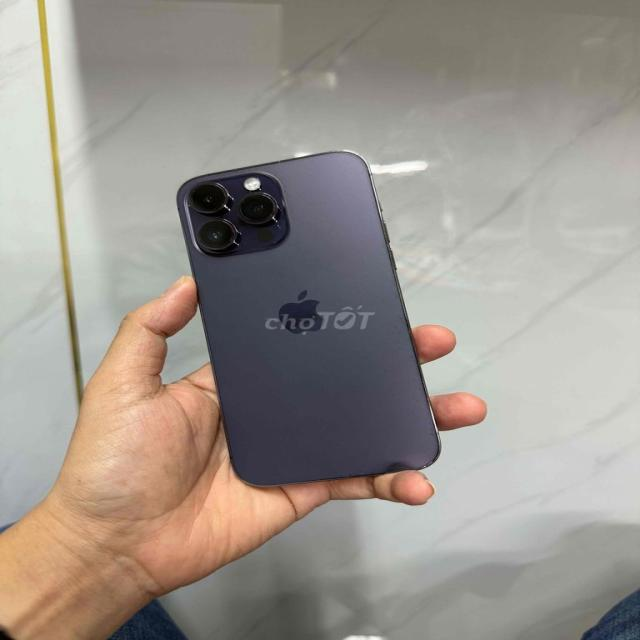gen_14: (175, 146, 447, 488)
